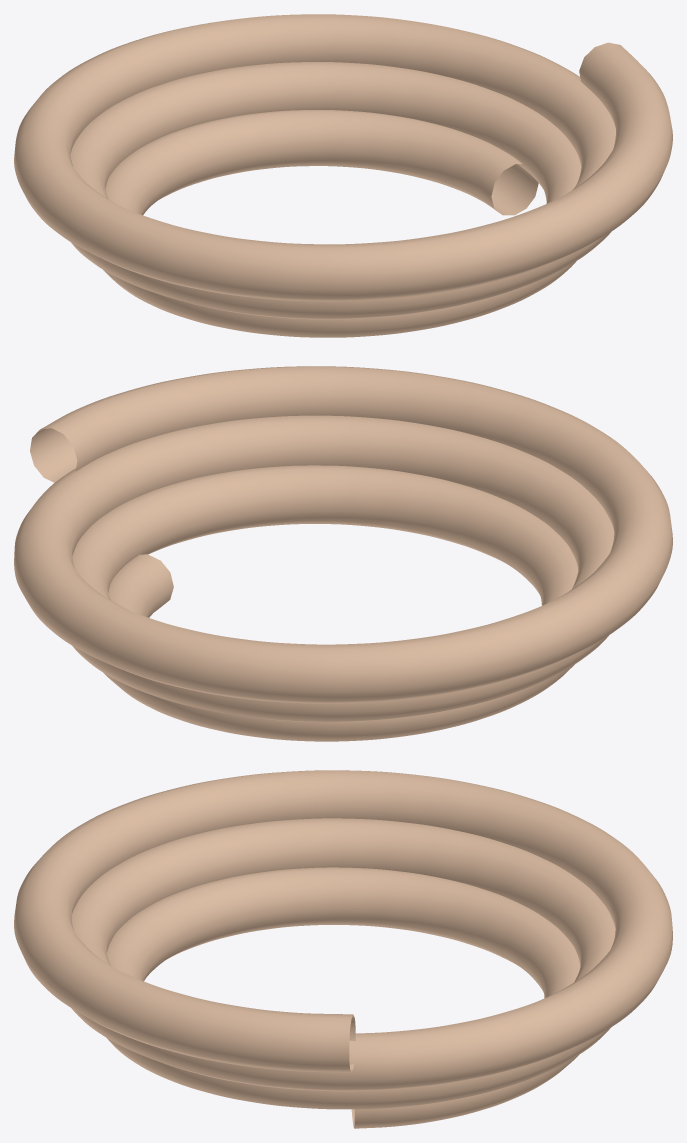
The model's file is rope_coil.glb.
3 renders of one model, top to bottom at view 1: azimuth 30°, elevation 25°; view 2: azimuth 150°, elevation 25°; view 3: azimuth 270°, elevation 25°, orthographic. The views are drawn at different scales.
Visible parts, largest first — view 1: RopeCoil; view 2: RopeCoil; view 3: RopeCoil.
Part boxes in pixels (bbox=[...]): RopeCoil: bbox=[14, 14, 672, 337]; RopeCoil: bbox=[14, 366, 672, 741]; RopeCoil: bbox=[14, 770, 672, 1128].
Size of the model in its own units: 0.5102 by 0.1279 by 0.4969.
